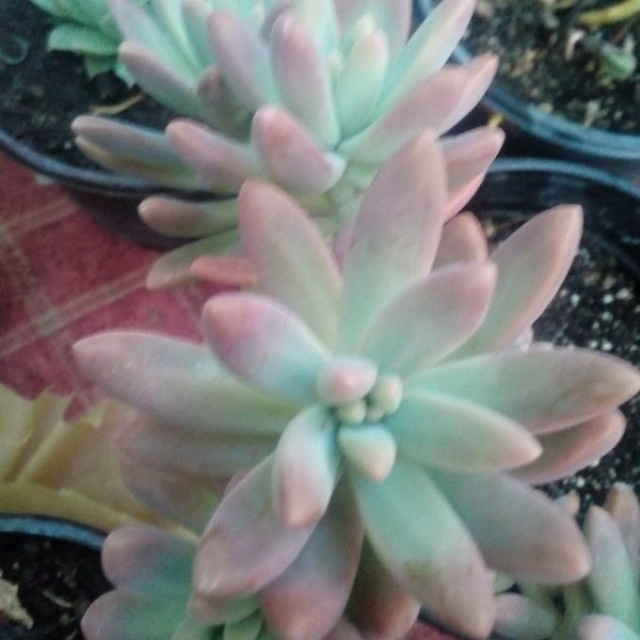obstacle: (153, 196, 592, 619), (22, 11, 489, 221)
